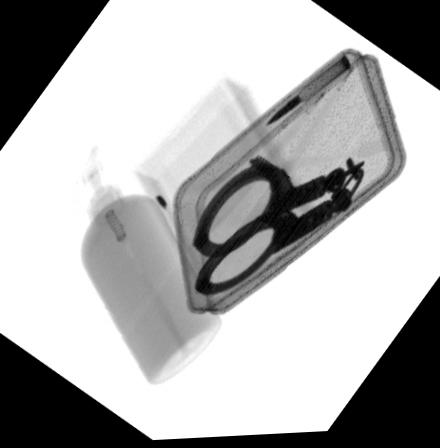Bullet: (263, 59, 350, 130)
HandCuffs: (190, 156, 365, 298)
